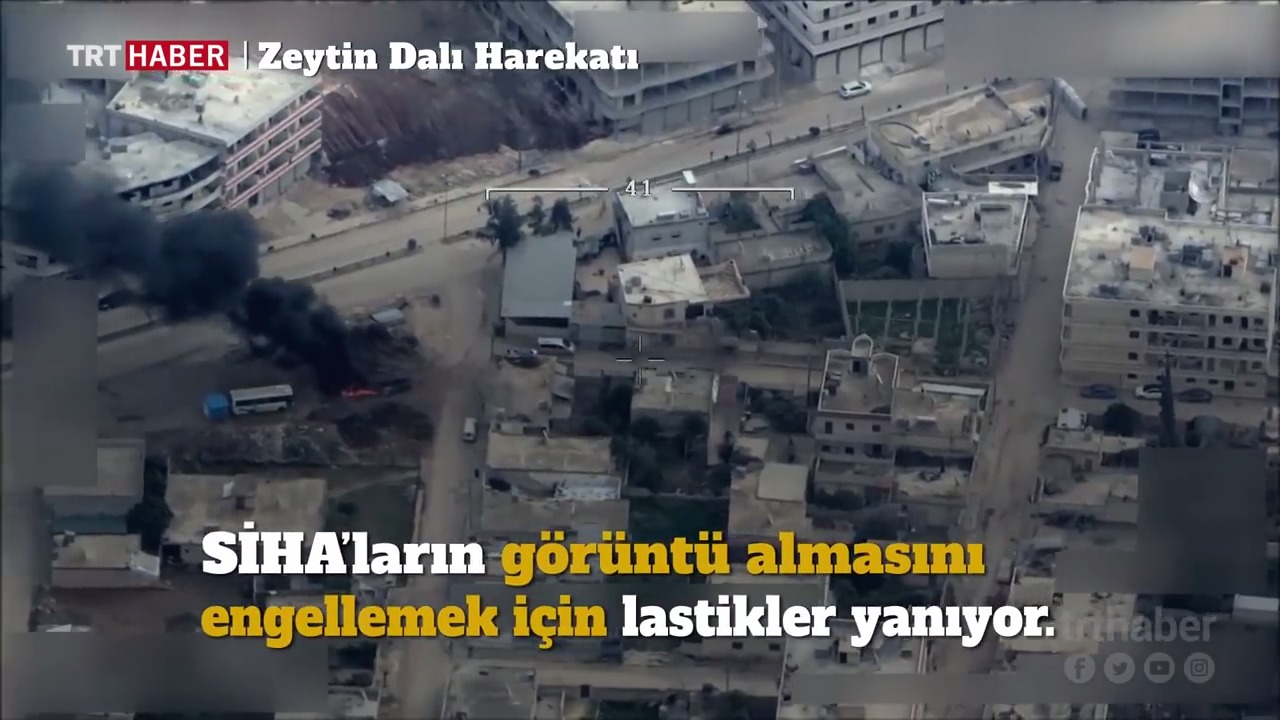arac: (227, 377, 304, 422), (530, 331, 583, 356), (96, 281, 135, 314), (456, 407, 484, 448), (834, 76, 880, 100), (1131, 120, 1166, 144), (1045, 158, 1070, 182)
bina: (493, 214, 593, 346)
